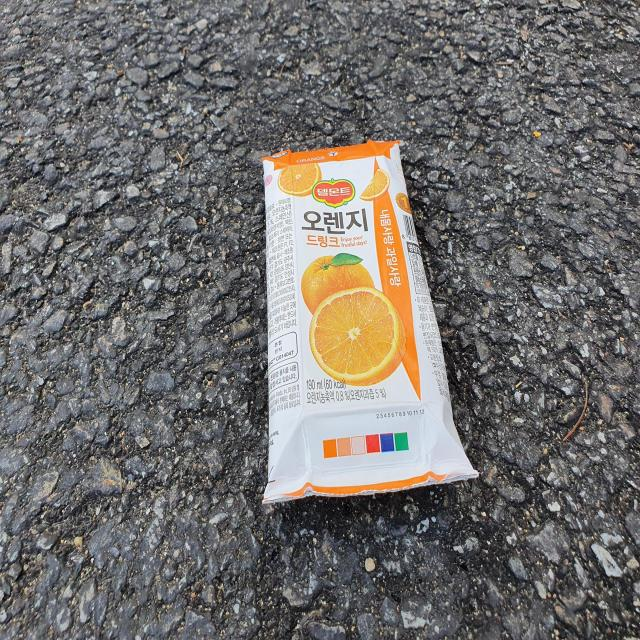paperpack: (263, 140, 479, 504)
